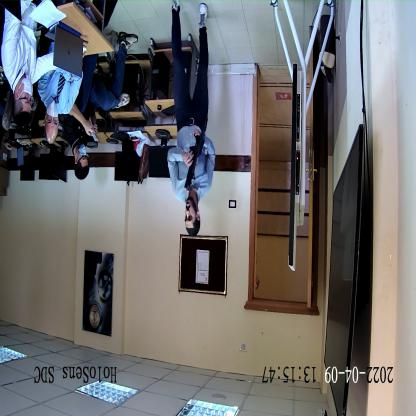handgun: (184, 115, 209, 190)
